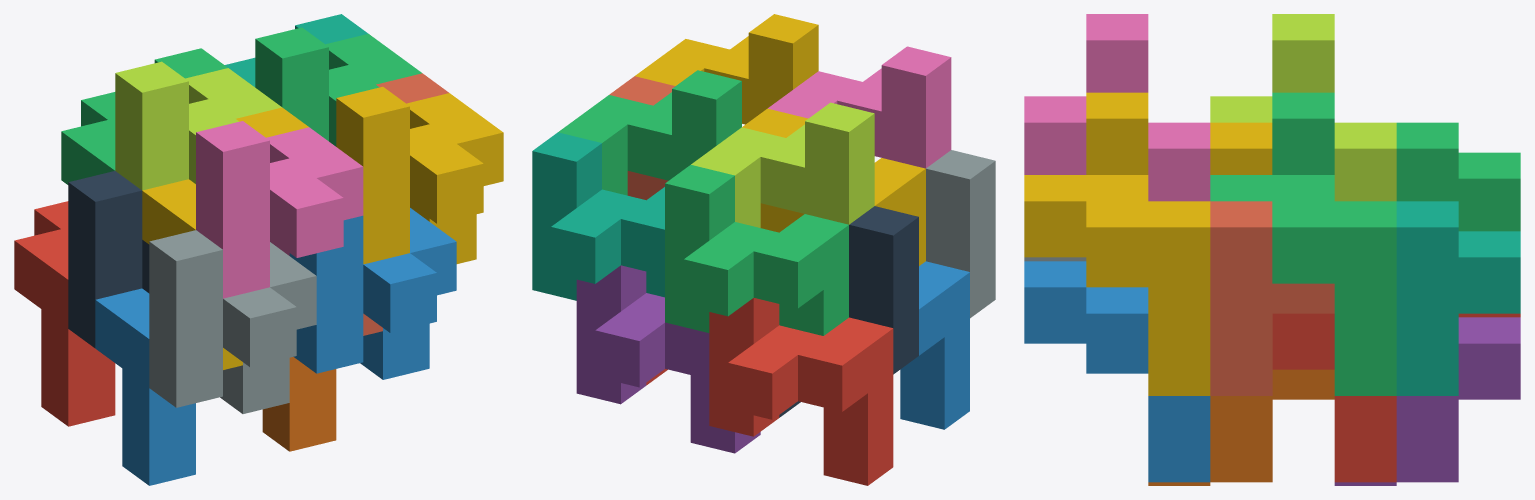
The model's file is tiling.obj.
The picture shows the model from 3 angles, left to right: view 1: azimuth 30°, elevation 25°; view 2: azimuth 150°, elevation 25°; view 3: azimuth 270°, elevation 25°; orthographic projection. The views are drawn at different scales.
Visible parts, largest first — view 1: copy_2_domain_2, copy_2_domain_4, copy_2_domain_8, copy_2_domain_6, copy_2_domain_3, copy_1_domain_1, copy_1_domain_2, copy_2_domain_1, copy_2_domain_7, copy_1_domain_3, copy_1_domain_6, copy_1_domain_4 (+2 smaller); view 2: copy_1_domain_1, copy_1_domain_3, copy_1_domain_7, copy_1_domain_5, copy_2_domain_3, copy_2_domain_7, copy_2_domain_4, copy_1_domain_2, copy_2_domain_8, copy_2_domain_1, copy_2_domain_2, copy_1_domain_4 (+1 smaller); view 3: copy_2_domain_8, copy_2_domain_7, copy_1_domain_7, copy_2_domain_6, copy_2_domain_4, copy_1_domain_8, copy_2_domain_3, copy_1_domain_5, copy_1_domain_3, copy_2_domain_5, copy_1_domain_6, copy_1_domain_4.
Boxes of the visible parts, box(x1,y1,x2,y2) form: copy_2_domain_2: box(149, 230, 316, 413); copy_2_domain_4: box(196, 121, 363, 298); copy_2_domain_8: box(336, 86, 503, 264); copy_2_domain_6: box(289, 208, 456, 379); copy_2_domain_3: box(115, 61, 281, 190); copy_1_domain_1: box(14, 201, 115, 426); copy_1_domain_2: box(95, 288, 195, 485); copy_2_domain_1: box(68, 171, 149, 347); copy_2_domain_7: box(255, 27, 421, 146); copy_1_domain_3: box(61, 48, 227, 184); copy_1_domain_6: box(262, 357, 336, 451); copy_1_domain_4: box(142, 107, 308, 369); copy_1_domain_1: box(709, 298, 893, 485); copy_1_domain_3: box(665, 165, 848, 335); copy_1_domain_7: box(532, 132, 664, 300); copy_1_domain_5: box(576, 265, 760, 453); copy_2_domain_3: box(691, 102, 874, 227); copy_2_domain_7: box(558, 70, 741, 195); copy_2_domain_4: box(768, 46, 951, 168); copy_1_domain_2: box(900, 261, 969, 429); copy_2_domain_8: box(635, 14, 818, 124); copy_2_domain_1: box(779, 206, 918, 417); copy_2_domain_2: box(926, 150, 995, 318); copy_1_domain_4: box(742, 108, 925, 265); copy_2_domain_8: box(1024, 92, 1210, 395); copy_2_domain_7: box(1210, 92, 1396, 395); copy_1_domain_7: box(1396, 201, 1520, 395); copy_2_domain_6: box(1024, 261, 1210, 482); copy_2_domain_4: box(1024, 14, 1210, 201); copy_1_domain_8: box(1210, 201, 1334, 395); copy_2_domain_3: box(1210, 14, 1396, 201); copy_1_domain_5: box(1334, 317, 1520, 485); copy_1_domain_3: box(1396, 122, 1520, 231); copy_2_domain_5: box(1272, 313, 1396, 482); copy_1_domain_6: box(1148, 369, 1334, 485); copy_1_domain_4: box(1210, 122, 1272, 174).
Bounding box in the file's own units: 7 × 7 × 8.
